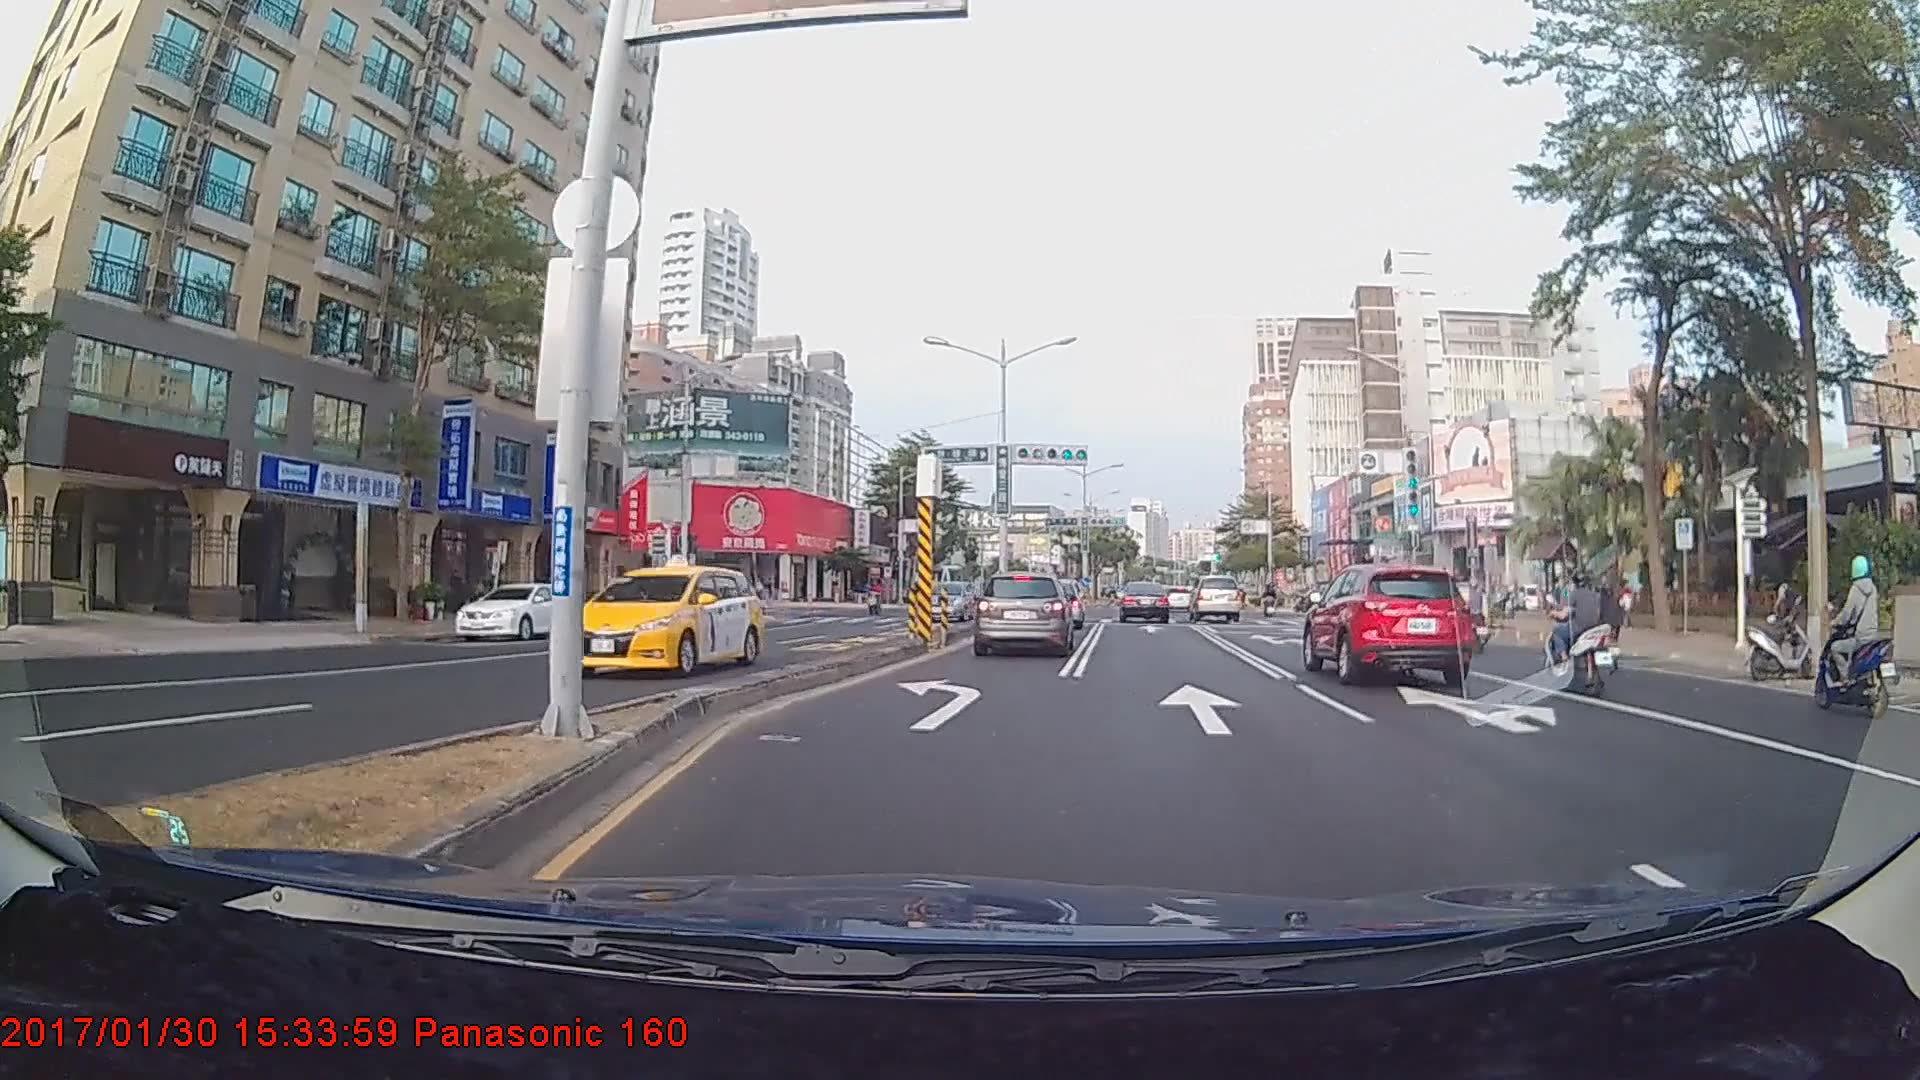rider: (1809, 555, 1898, 730), (1541, 566, 1624, 696)
vehicle: (560, 565, 764, 676), (1305, 558, 1474, 686), (974, 571, 1071, 656), (457, 579, 585, 642), (1188, 576, 1242, 623), (916, 579, 974, 619), (1117, 581, 1170, 623)
